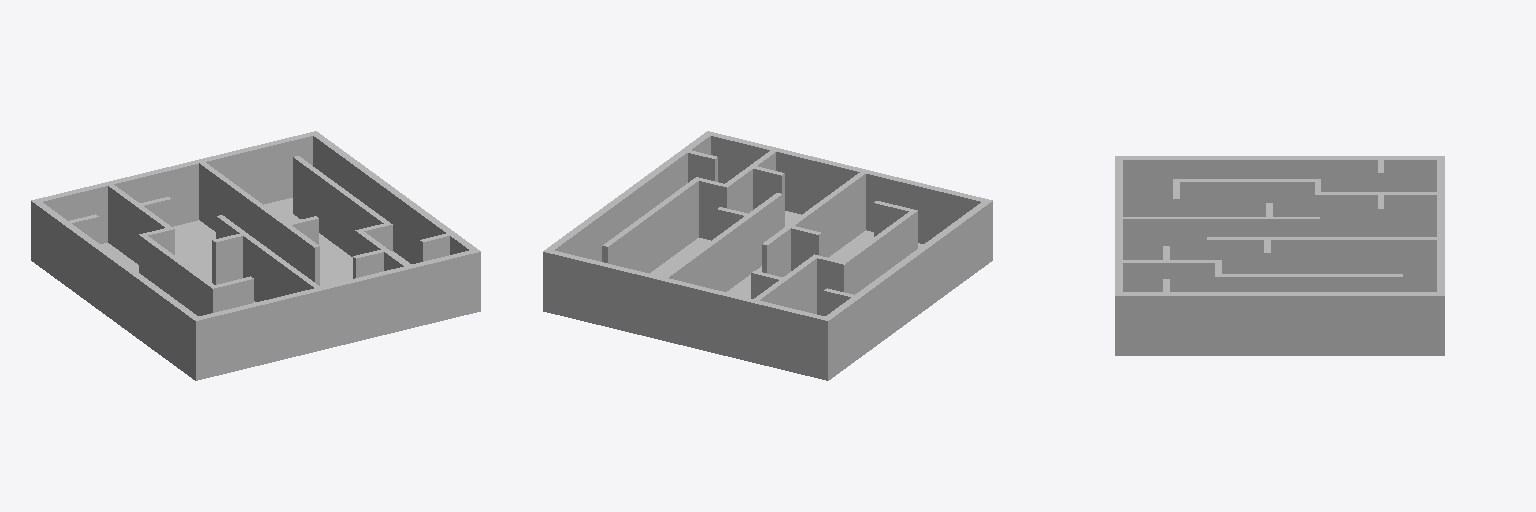
The model's file is maze.obj.
The picture shows the model from 3 angles: view 1: azimuth 30°, elevation 25°; view 2: azimuth 150°, elevation 25°; view 3: azimuth 270°, elevation 25°; orthographic projection.
Parts seen in each view (by area): view 1: Cube, Cube.009, Cube.007, Cube.004, Cube.008, Cube.003; view 2: Cube, Cube.009, Cube.007, Cube.004, Cube.008, Cube.003; view 3: Cube, Cube.009, Cube.007.
Part boxes in pixels (bbox=[...]): Cube: bbox=[31, 131, 480, 380]; Cube.009: bbox=[108, 184, 253, 315]; Cube.007: bbox=[216, 215, 319, 301]; Cube.004: bbox=[199, 162, 319, 282]; Cube.008: bbox=[212, 234, 242, 284]; Cube.003: bbox=[293, 202, 404, 277]; Cube: bbox=[543, 131, 992, 380]; Cube.009: bbox=[753, 201, 917, 315]; Cube.007: bbox=[762, 172, 865, 276]; Cube.004: bbox=[669, 193, 782, 291]; Cube.008: bbox=[791, 226, 821, 270]; Cube.003: bbox=[638, 150, 784, 273]; Cube: bbox=[1115, 156, 1444, 355]; Cube.009: bbox=[1173, 179, 1436, 236]; Cube.007: bbox=[1122, 217, 1319, 259].
Size of the model in its own units: 2 by 0.4 by 2.